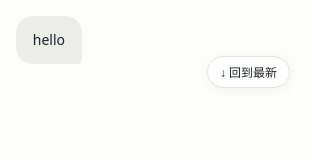
it: offers a return-to-latest control only after scrolling away
The image size is (312, 160).
Click the button with aria-label "回到最新消息" at (248, 72), box x1=207 y1=56 x2=290 y2=88
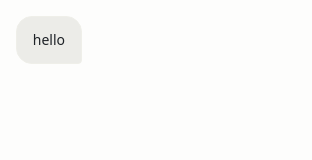
Result: the button "回到最新消息" is gone
